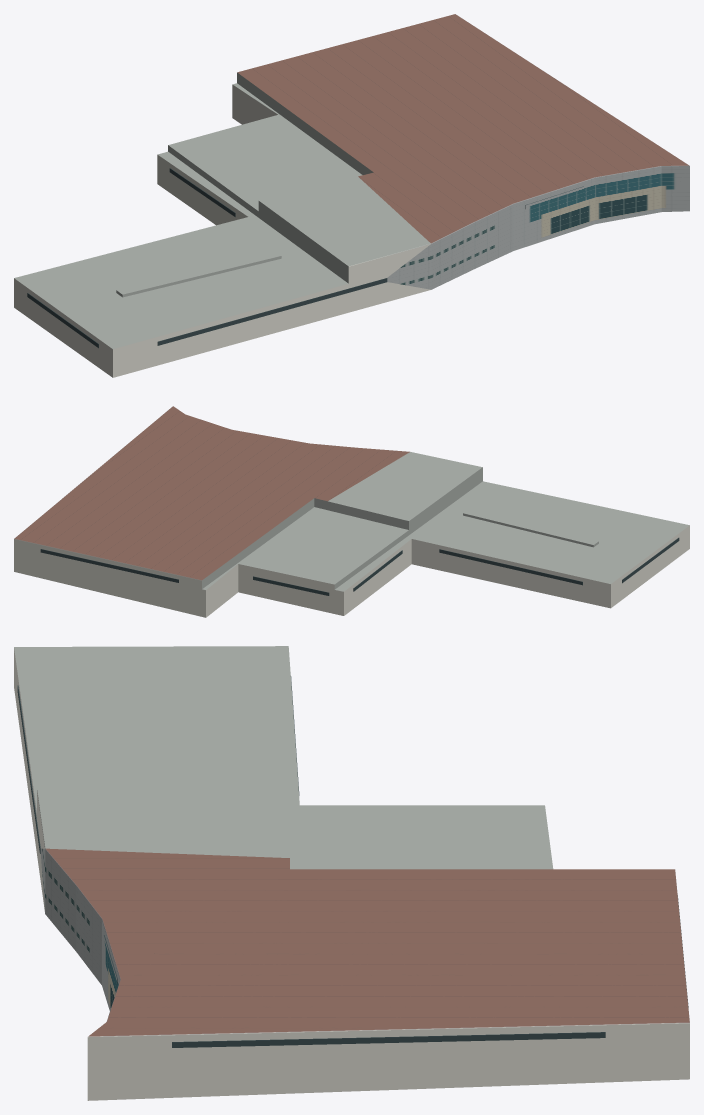
File: fragments.glb
The picture shows the model from 3 angles, top to bottom: view 1: azimuth 30°, elevation 25°; view 2: azimuth 150°, elevation 25°; view 3: azimuth 270°, elevation 25°; orthographic projection. The views are drawn at different scales.
Parts seen in each view (by area): view 1: SM_gym2_Fragment_006, SM_gym2_Fragment_022, SM_gym2_Fragment_010, SM_gym2_Fragment_017, SM_gym2_Fragment_031, SM_gym2_Fragment_027, SM_gym2_Fragment_064, SM_gym2_Fragment_042, SM_gym2_Fragment_020, SM_gym2_Fragment_002, SM_gym2_Fragment_018, SM_gym2_Fragment_052 (+45 smaller); view 2: SM_gym2_Fragment_036, SM_gym2_Fragment_062, SM_gym2_Fragment_031, SM_gym2_Fragment_020, SM_gym2_Fragment_045, SM_gym2_Fragment_004, SM_gym2_Fragment_011, SM_gym2_Fragment_012, SM_gym2_Fragment_044, SM_gym2_Fragment_032, SM_gym2_Fragment_002, SM_gym2_Fragment_051 (+46 smaller); view 3: SM_gym2_Fragment_026, SM_gym2_Fragment_001, SM_gym2_Fragment_052, SM_gym2_Fragment_038, SM_gym2_Fragment_043, SM_gym2_Fragment_048, SM_gym2_Fragment_006, SM_gym2_Fragment_022, SM_gym2_Fragment_035, SM_gym2_Fragment_024, SM_gym2_Fragment_040, SM_gym2_Fragment_027 (+47 smaller).
Part boxes in pixels (x1,y1,x2,y2): SM_gym2_Fragment_006: (589,151,689,223); SM_gym2_Fragment_022: (370,220,469,295); SM_gym2_Fragment_010: (321,237,409,319); SM_gym2_Fragment_017: (224,283,326,343); SM_gym2_Fragment_031: (266,207,374,258); SM_gym2_Fragment_027: (468,168,545,251); SM_gym2_Fragment_064: (520,174,597,248); SM_gym2_Fragment_042: (98,304,189,368); SM_gym2_Fragment_020: (202,170,302,225); SM_gym2_Fragment_002: (38,283,122,350); SM_gym2_Fragment_018: (151,295,235,359); SM_gym2_Fragment_052: (566,126,666,174); SM_gym2_Fragment_036: (75,537,129,599); SM_gym2_Fragment_062: (126,558,188,610); SM_gym2_Fragment_031: (393,472,459,524); SM_gym2_Fragment_020: (339,526,404,589); SM_gym2_Fragment_045: (487,535,551,588); SM_gym2_Fragment_004: (245,546,302,601); SM_gym2_Fragment_011: (521,552,592,599); SM_gym2_Fragment_012: (33,532,88,587); SM_gym2_Fragment_044: (383,510,444,573); SM_gym2_Fragment_032: (573,563,634,608); SM_gym2_Fragment_002: (590,540,663,589); SM_gym2_Fragment_051: (293,481,366,521); SM_gym2_Fragment_026: (175,1011,328,1097); SM_gym2_Fragment_001: (464,992,584,1087); SM_gym2_Fragment_052: (133,978,272,1090); SM_gym2_Fragment_038: (325,1020,464,1092); SM_gym2_Fragment_043: (399,974,529,1084); SM_gym2_Fragment_048: (558,989,666,1083); SM_gym2_Fragment_006: (87,978,175,1100); SM_gym2_Fragment_022: (41,821,133,931); SM_gym2_Fragment_035: (349,917,484,977); SM_gym2_Fragment_024: (415,882,551,942); SM_gym2_Fragment_040: (479,924,608,984); SM_gym2_Fragment_027: (92,903,206,990).
Bounding box in the file's own units: 2.2 × 0.1677 × 1.51.
6 materials, 1 textured.
